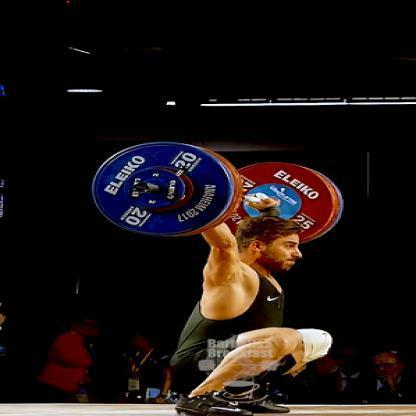barbell: (91, 138, 346, 242)
